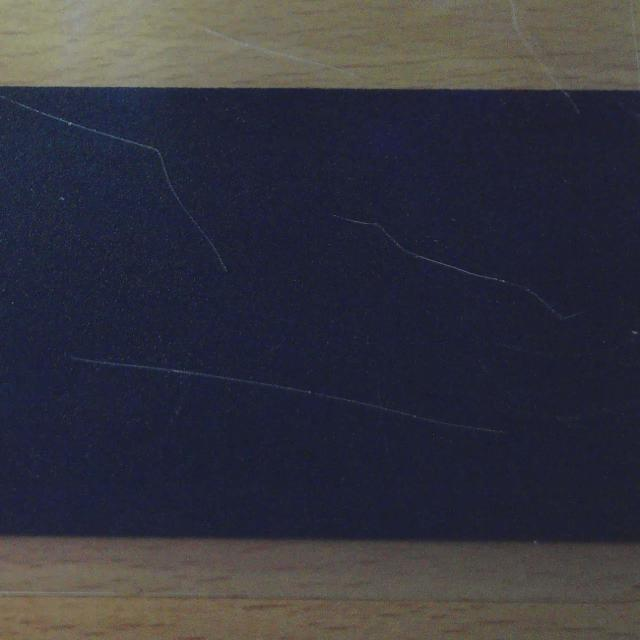defect: (4, 97, 234, 278), (68, 355, 504, 436), (331, 214, 584, 322), (560, 92, 585, 115)
